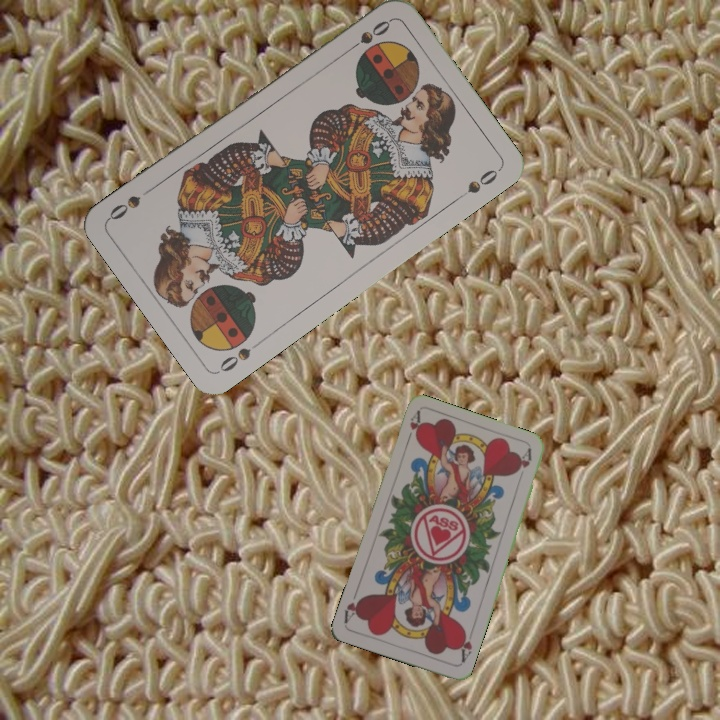HA: (402, 408, 425, 448), (454, 626, 476, 665)
SO: (342, 16, 394, 56), (215, 336, 266, 375)
